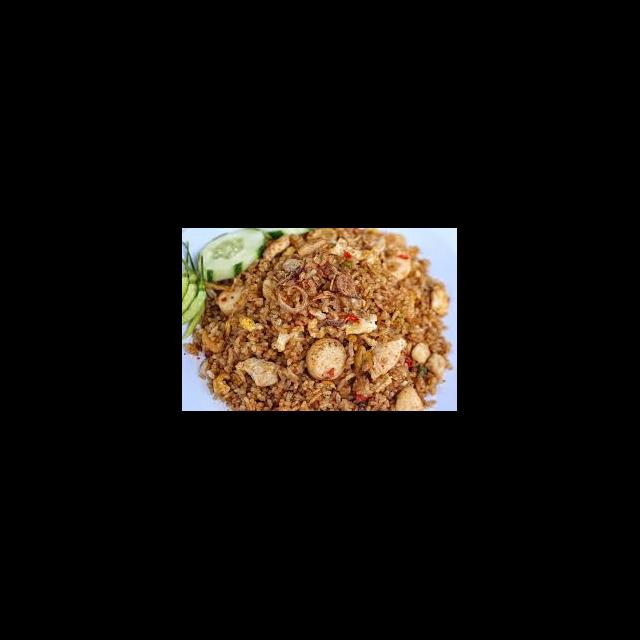food_waste: (257, 275, 395, 368)
